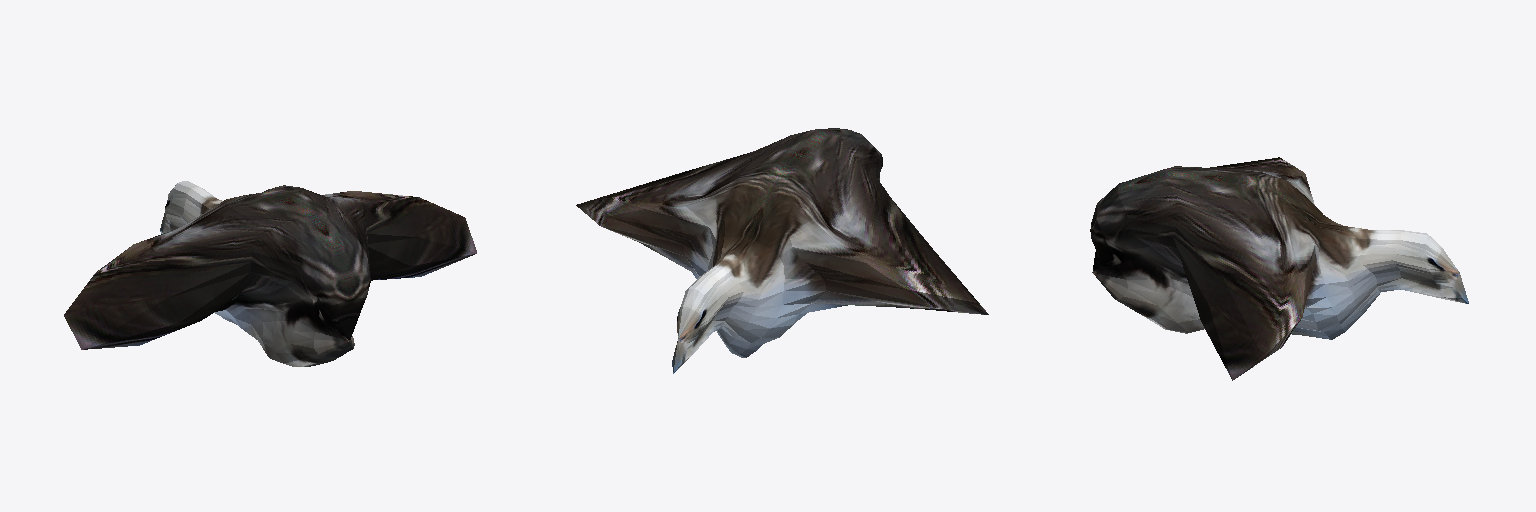
3 views of the same model, side by side, from view 1: azimuth 30°, elevation 25°; view 2: azimuth 150°, elevation 25°; view 3: azimuth 270°, elevation 25° (orthographic).
Bounding box in the file's own units: 2.26 × 0.8849 × 1.85.
Materials: 1 (1 with a texture image).